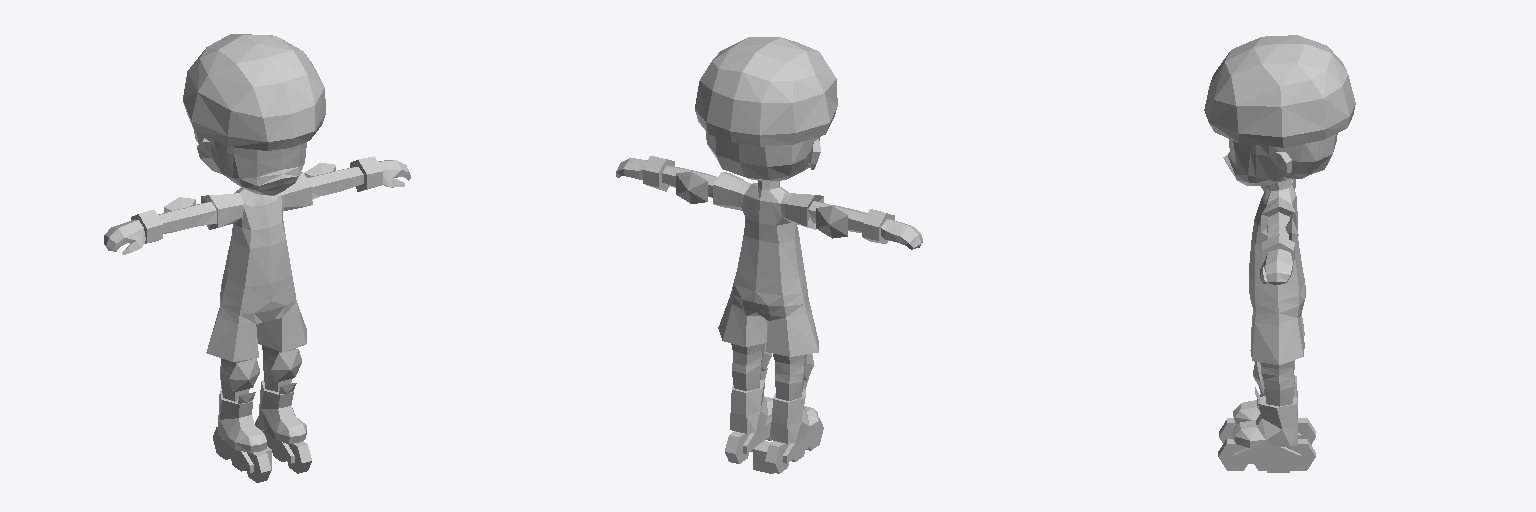
The model's file is roller.obj.
The picture shows the model from 3 angles: view 1: azimuth 30°, elevation 25°; view 2: azimuth 150°, elevation 25°; view 3: azimuth 270°, elevation 25°; orthographic projection.
Parts seen in each view (by area): view 1: mesh_0_foot, mesh_1_head; view 2: mesh_0_foot, mesh_1_head; view 3: mesh_1_head, mesh_0_foot.
Part boxes in pixels (bbox=[...]): mesh_0_foot: bbox=[104, 156, 410, 482]; mesh_1_head: bbox=[183, 34, 325, 195]; mesh_0_foot: bbox=[616, 156, 922, 473]; mesh_1_head: bbox=[695, 37, 837, 181]; mesh_1_head: bbox=[1204, 35, 1355, 185]; mesh_0_foot: bbox=[1218, 179, 1315, 470].
Size of the model in its own units: 30.61 by 40.95 by 13.24.